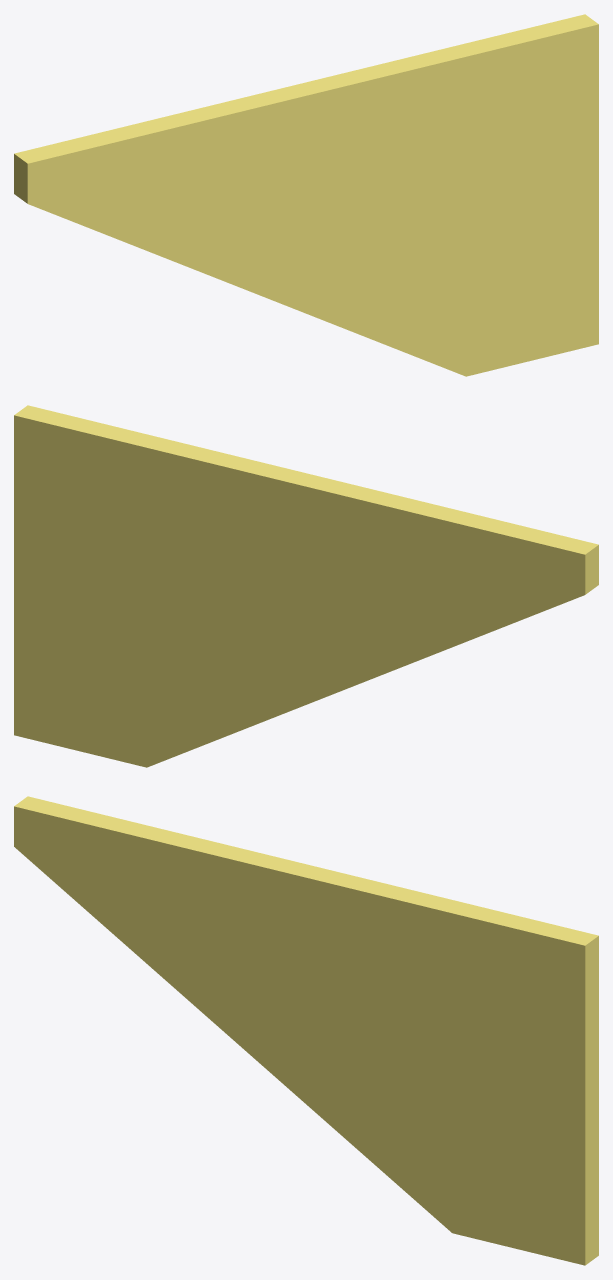
The model's file is Penjaga Tangga.fbx.
3 renders of one model, top to bottom at view 1: azimuth 30°, elevation 25°; view 2: azimuth 150°, elevation 25°; view 3: azimuth 330°, elevation 25°, orthographic.
Parts seen in each view (by area): view 1: Cube.019; view 2: Cube.019; view 3: Cube.019.
Boxes of the visible parts, box(x1,y1,x2,y2) form: Cube.019: box(14, 14, 598, 376); Cube.019: box(14, 405, 598, 767); Cube.019: box(14, 796, 598, 1265).
Bounding box in the file's own units: 1707 × 914 × 71.4.
